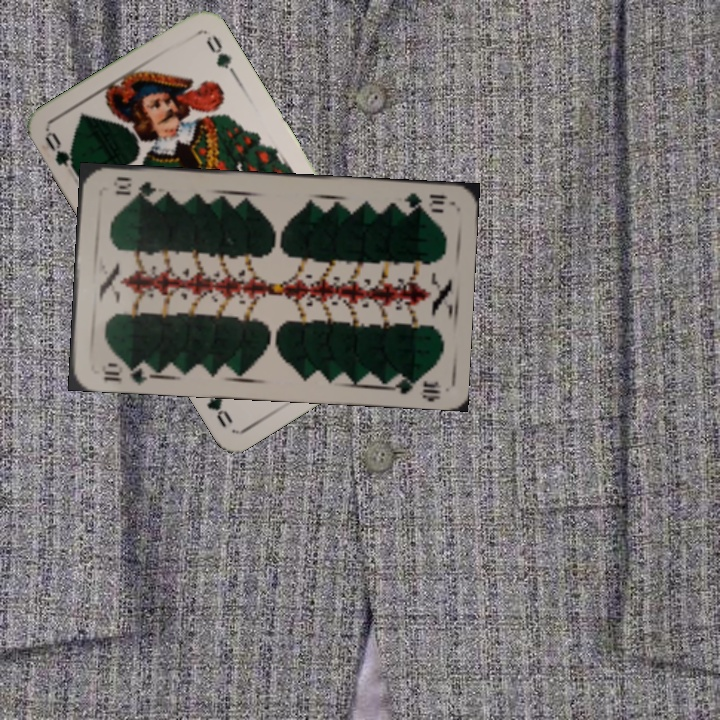G10: (99, 357, 153, 386), (400, 189, 451, 215)
GO: (40, 128, 84, 181)
